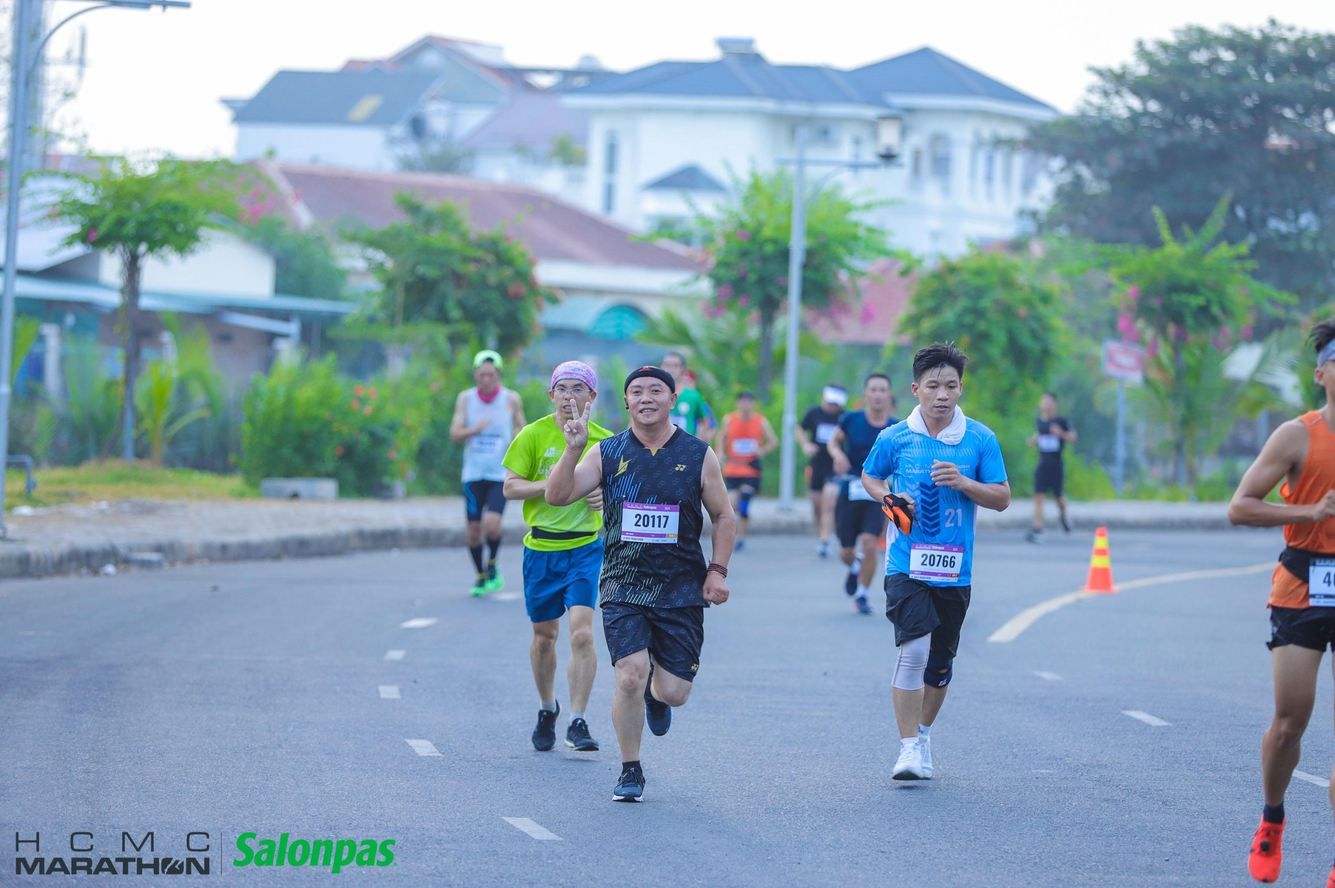bib: (622, 503, 679, 547), (911, 539, 964, 586), (1308, 555, 1335, 606)
